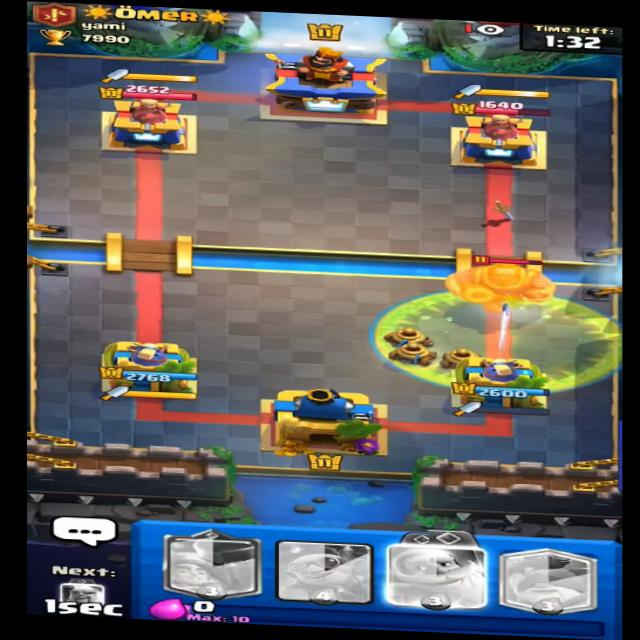Royalgiant: (449, 250, 568, 313)
